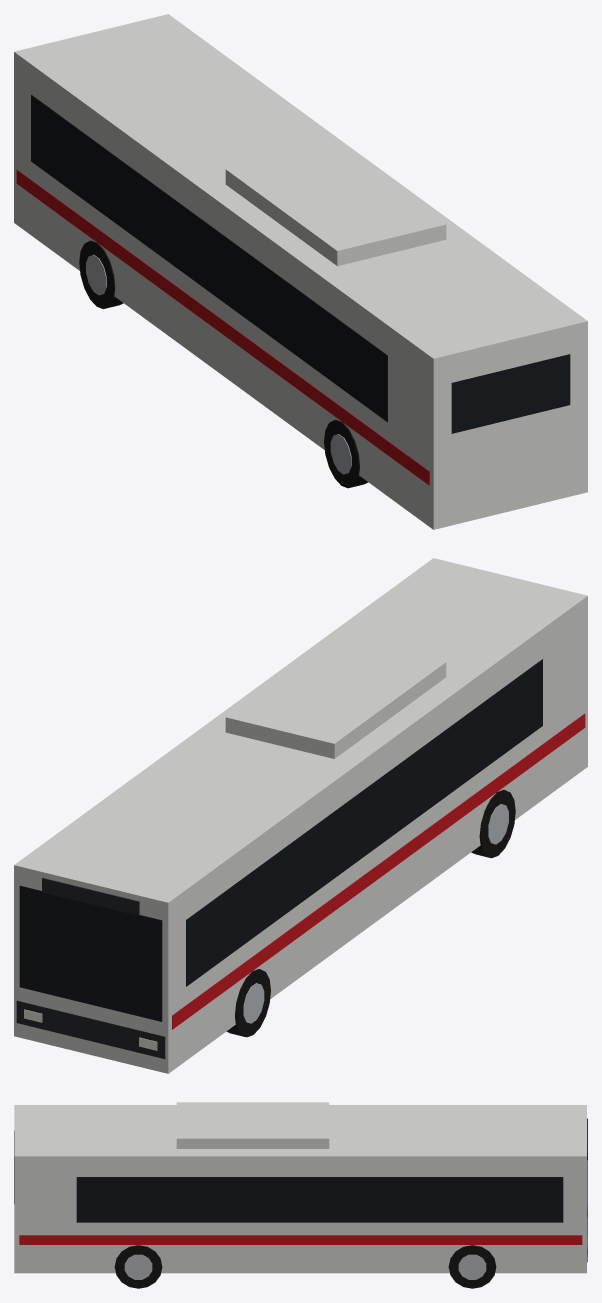
File: bus.glb
3 views of the same model, one above another, from view 1: azimuth 30°, elevation 25°; view 2: azimuth 150°, elevation 25°; view 3: azimuth 270°, elevation 25° (orthographic). The views are drawn at different scales.
Parts seen in each view (by area): view 1: bus; view 2: bus; view 3: bus.
Boxes of the visible parts, x1,y1,x2,y2 form: bus: [14, 14, 587, 529]; bus: [14, 558, 587, 1073]; bus: [14, 1102, 587, 1288].
Bounding box in the file's own units: 2.61 × 3.29 × 12.03.
